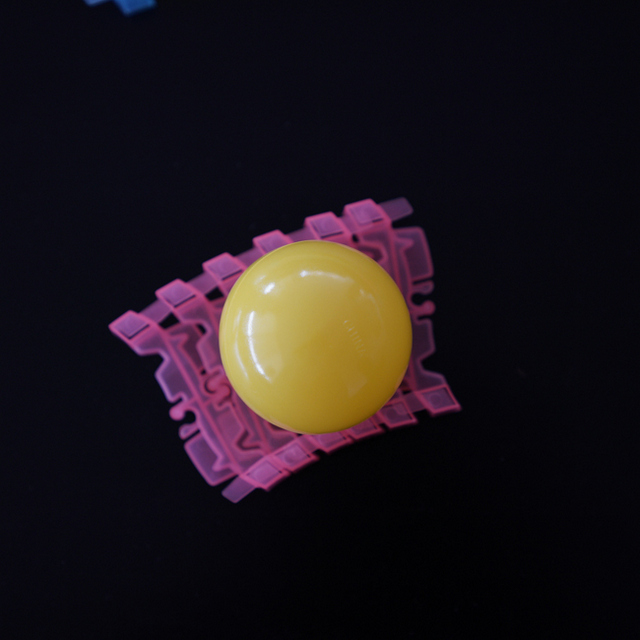Ball: (218, 241, 413, 434)
